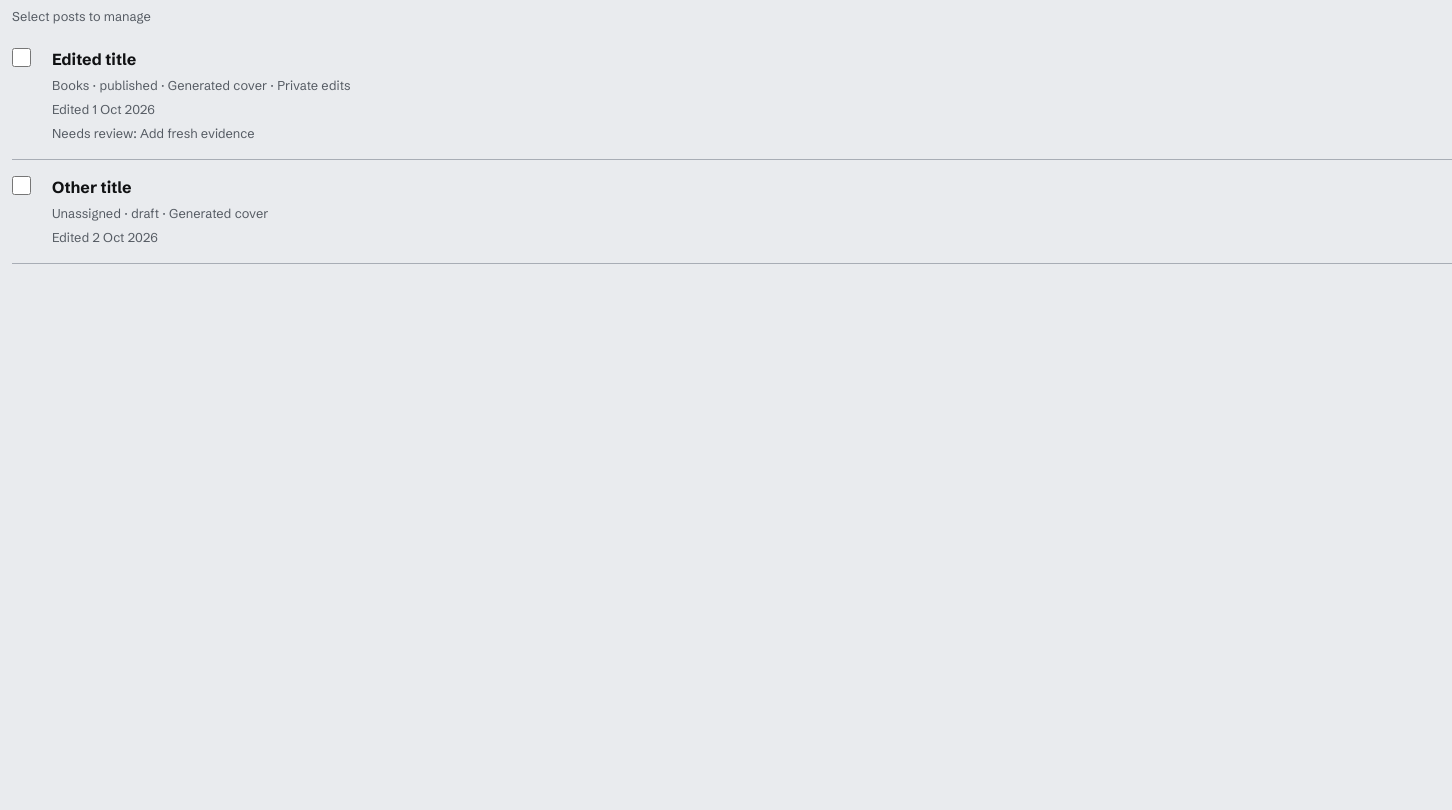
Test: renders working metadata, confirmed controls and per-record bulk outcomes
The width and height of the screenshot is (1452, 810).
Expected: the text "Books · published · Generated cover · Private edits" is shown, [52, 77, 350, 93]
Expected: the text "Needs review: Add fresh evidence" is shown, [52, 125, 255, 141]
Click the checkbox named "Select Edited title" at [22, 58], box [12, 48, 31, 67]
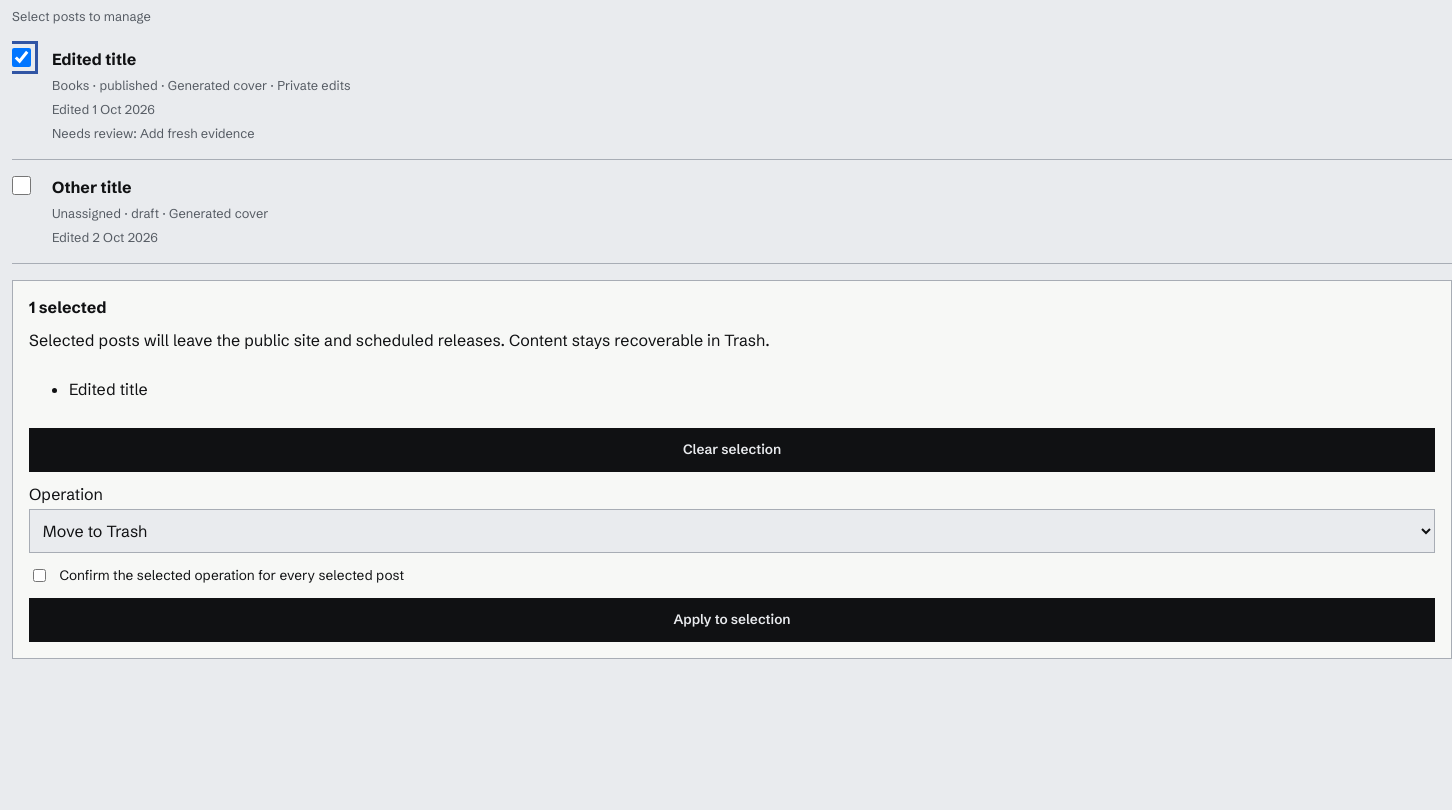
Click the checkbox named "Select Other title" at [22, 186], box [12, 176, 31, 195]
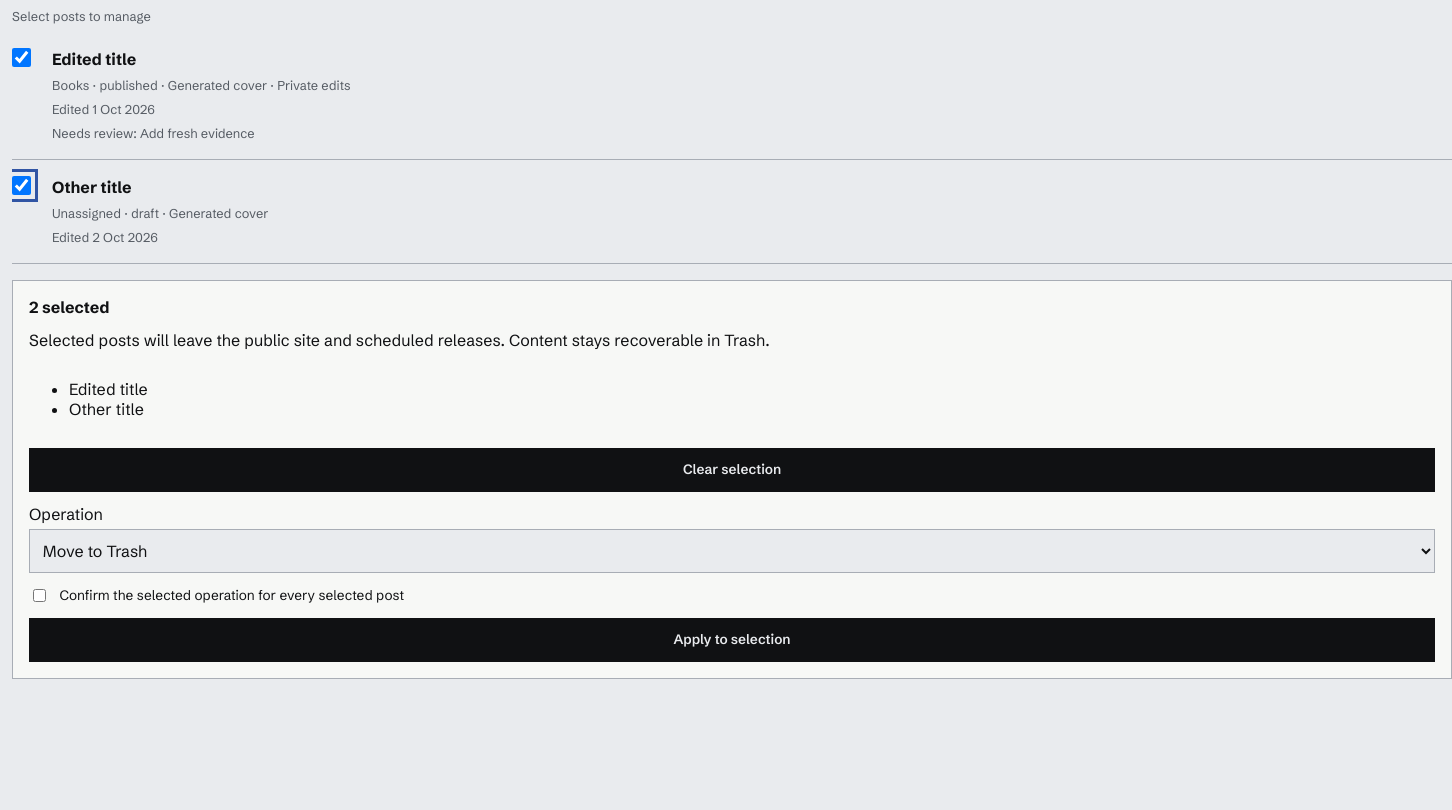
Click the checkbox labelled "Confirm the selected operation for every selected post" at [40, 596], box [33, 589, 46, 602]
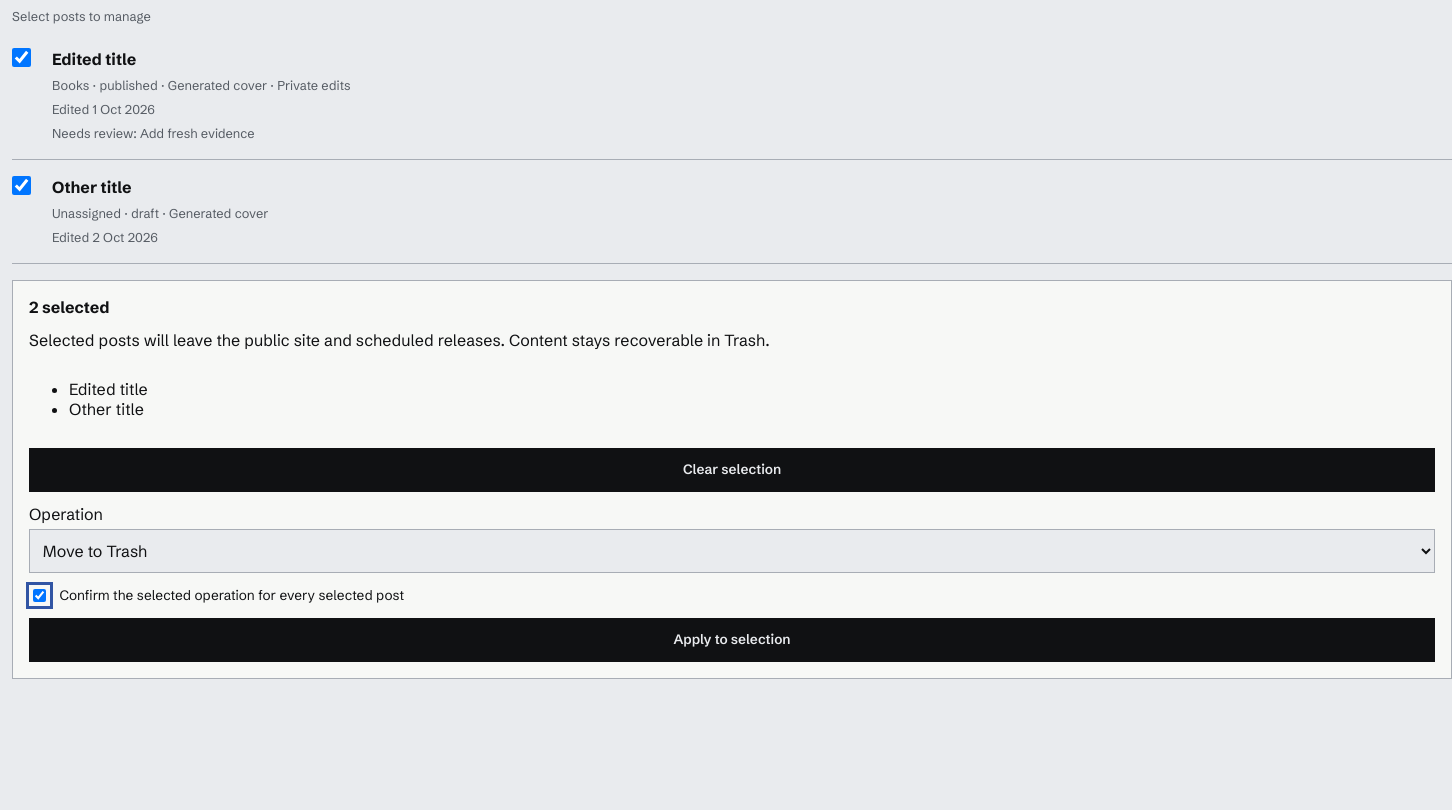
Click the button "Apply to selection" at [732, 640], box [29, 618, 1435, 662]
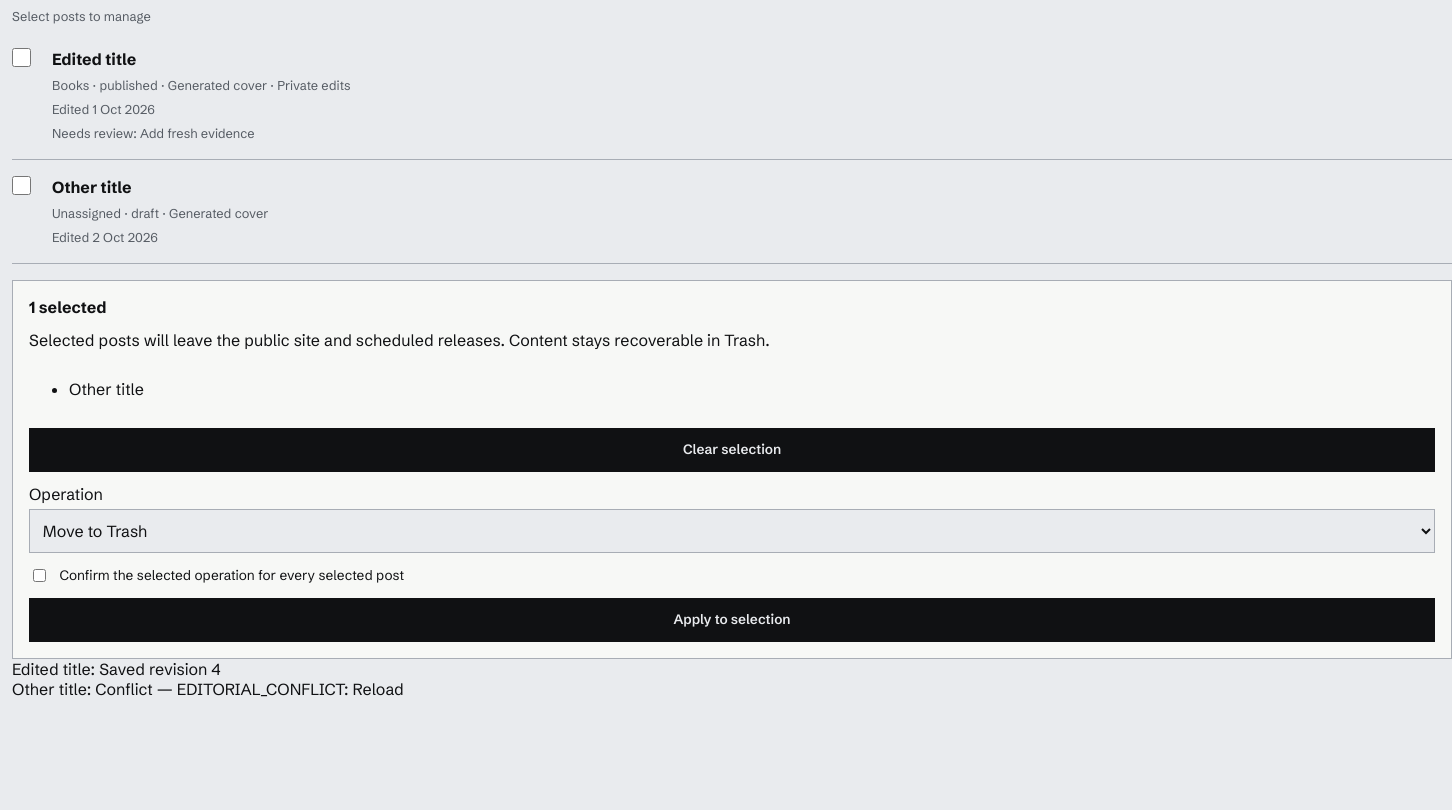
Expected: the text "Edited title: Saved revision 4" is shown, [12, 659, 221, 679]
Expected: the text "Other title: Conflict — EDITORIAL_CONFLICT: Reload" is shown, [12, 679, 404, 699]
